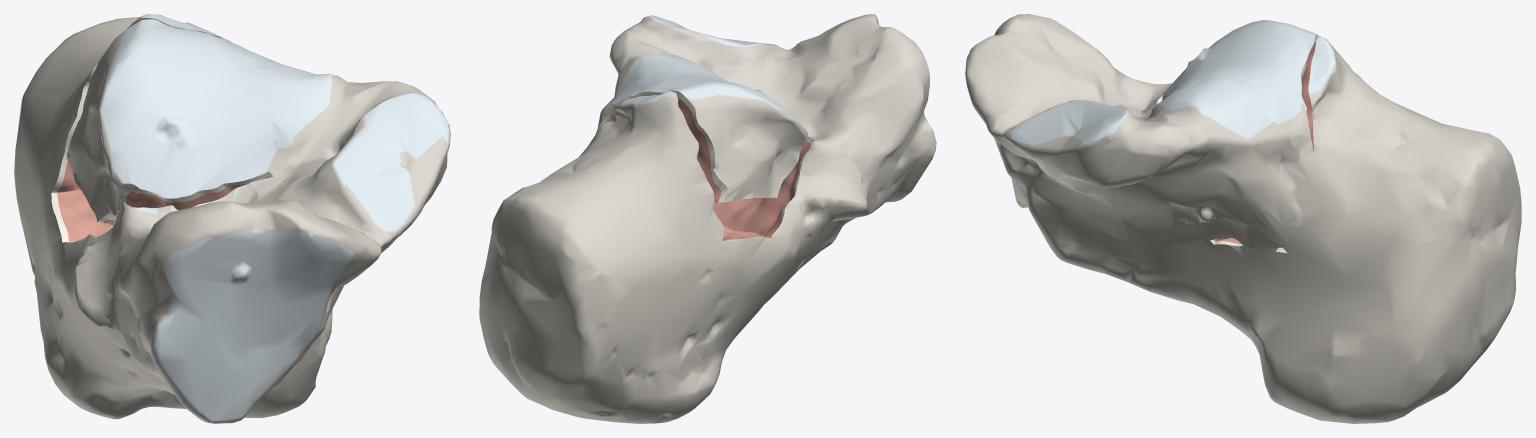
File: EL-JD-sev_young.glb
3 renders of one model, left to right at view 1: azimuth 30°, elevation 25°; view 2: azimuth 150°, elevation 25°; view 3: azimuth 270°, elevation 25°, orthographic. The views are drawn at different scales.
Visible parts, largest first — view 1: calcaneus: sustentacular fragment, calcaneus: tuberosity (driven up), calcaneus: depressed joint fragment (outer two-thirds of the; view 2: calcaneus: tuberosity (driven up), calcaneus: sustentacular fragment, calcaneus: depressed joint fragment (outer two-thirds of the; view 3: calcaneus: tuberosity (driven up), calcaneus: sustentacular fragment, calcaneus: depressed joint fragment (outer two-thirds of the.
Part boxes in pixels (x1,y1,x2,y2): calcaneus: sustentacular fragment: [107, 57, 450, 423]; calcaneus: tuberosity (driven up): [14, 14, 332, 419]; calcaneus: depressed joint fragment (outer two-thirds of the: [67, 19, 277, 225]; calcaneus: tuberosity (driven up): [479, 91, 867, 423]; calcaneus: sustentacular fragment: [600, 14, 936, 253]; calcaneus: depressed joint fragment (outer two-thirds of the: [597, 64, 807, 202]; calcaneus: tuberosity (driven up): [1107, 36, 1521, 423]; calcaneus: sustentacular fragment: [965, 14, 1305, 274]; calcaneus: depressed joint fragment (outer two-thirds of the: [1162, 20, 1318, 216].
Bounding box in the file's own units: 0.0475 × 0.0513 × 0.0757.
